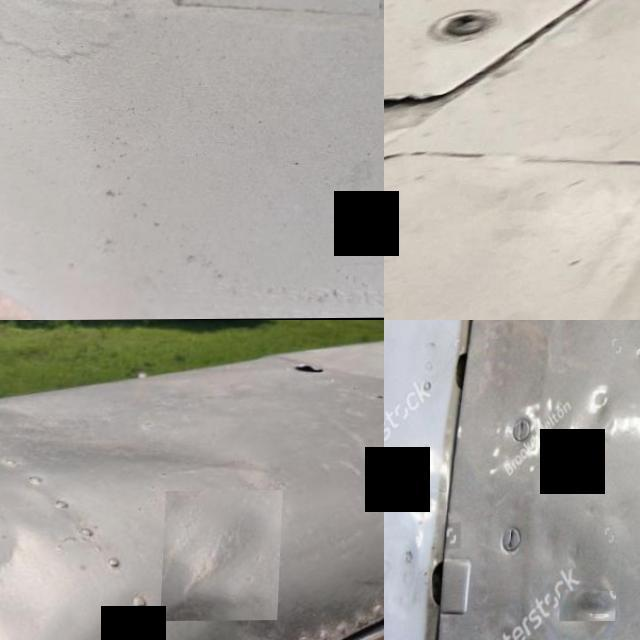Crack: (384, 86, 452, 198)
Dent: (164, 491, 285, 622), (0, 483, 92, 640), (566, 592, 620, 621)
